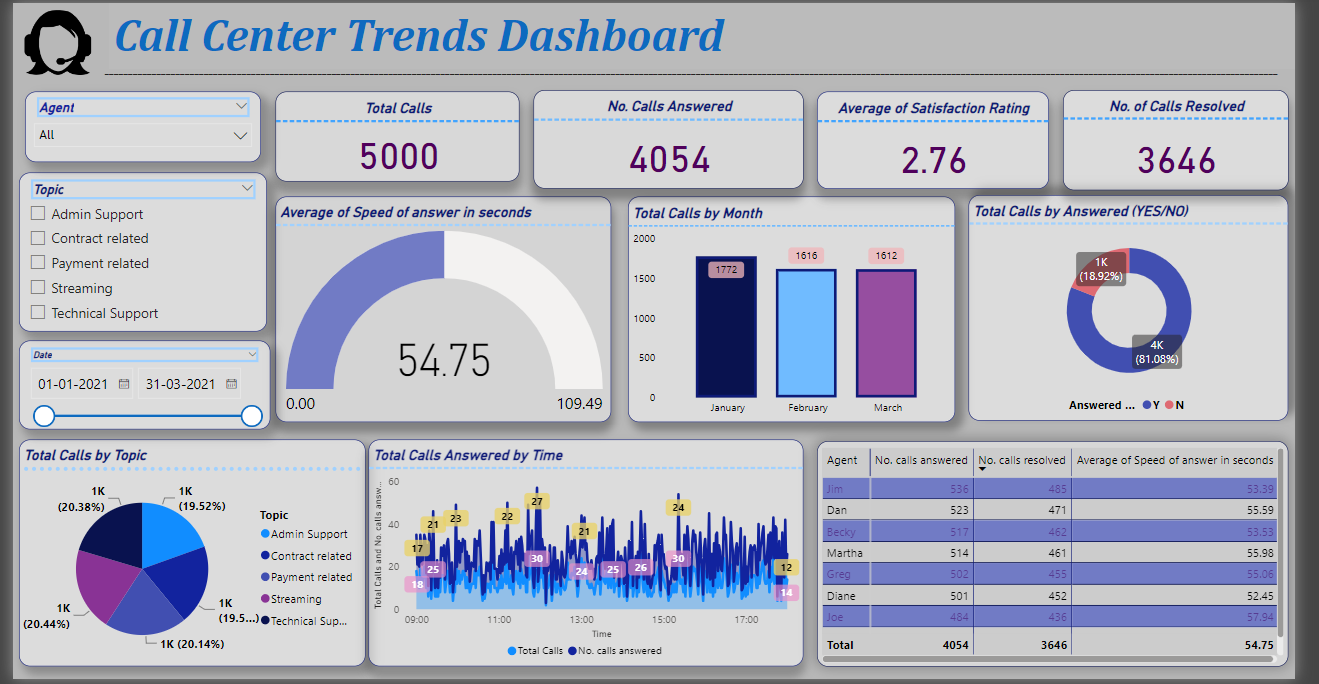

This screenshot's page, from the dashboard's own definition file:
{"tool":"powerbi","page":{"name":"Call center ","canvas":[1500,791],"ordinal":0},"visuals":[{"type":"card","title":"Total Calls","fields":{"Values":["Sheet1.Total Calls"]},"box":[307.5,103.8,285,105],"z":0},{"type":"slicer","fields":{"Values":["Sheet1.Topic"]},"box":[7.5,197.5,290,186.2],"z":1000},{"type":"donutChart","title":"Total Calls by Answered (YES/NO)","fields":{"Category":["Sheet1.Answered (Y/N)"],"Y":["Sheet1.Total Calls"]},"box":[1117.5,225,373.8,263.8],"z":2000},{"type":"gauge","fields":{"Y":["Sheet1.Speed of answer in seconds"]},"box":[307.1,225.7,392.9,264.3],"z":3000},{"type":"slicer","fields":{"Values":["Sheet1.Agent"]},"box":[13.8,103.8,276.2,82.5],"z":4000},{"type":"pieChart","fields":{"Y":["Sheet1.Total Calls"],"Series":["Sheet1.Topic"]},"box":[7.5,511.2,405,265],"z":5000},{"type":"lineStackedColumnComboChart","fields":{"Y":["Sheet1.Total Calls"],"Category":["Sheet1.Date.Variation.Date Hierarchy.Month"]},"box":[720,225.7,382.9,264.3],"z":6000},{"type":"card","title":"No. of Calls Resolved","fields":{"Values":["Sheet1.No. calls resolved"]},"box":[1227.5,101.2,263.8,117.5],"z":7000},{"type":"card","title":"No. Calls Answered","fields":{"Values":["Sheet1.No. calls answered"]},"box":[608.8,101.2,316.2,115],"z":8000},{"type":"pivotTable","fields":{"Rows":["Sheet1.Agent"],"Values":["Sheet1.No. calls answered","Sheet1.No. calls resolved","Sheet1.Speed of answer in seconds"]},"box":[940,512.5,551.2,263.8],"z":9000},{"type":"card","title":"Average of Satisfaction Rating","fields":{"Values":["Sheet1.Satisfaction rating"]},"box":[940,104.3,271.4,114.3],"z":10000},{"type":"slicer","fields":{"Values":["Sheet1.Date"]},"box":[7.5,395,293.8,103.8],"z":11000},{"type":"stackedAreaChart","title":"Total Calls Answered by Time","fields":{"Category":["Sheet1.Time"],"Y":["Sheet1.Total Calls","Sheet1.No. calls answered"]},"box":[416.2,511.2,508.8,265],"z":12000},{"type":"textbox","box":[112.9,0,1387.1,77.1],"z":13000},{"type":"image","box":[3.8,0,97.5,92.5],"z":14000},{"type":"textbox","box":[101.4,61.4,1398.6,42.9],"z":15000}]}

Visuals, with their boxes in screenshot pixels (x1, y1, x2, y2), scaled from the page's 1500x791 canvas onto the 1319x684 screenshot:
"Total Calls" card: box(270, 90, 521, 181)
slicer - Sheet1.Topic: box(7, 171, 262, 332)
"Total Calls by Answered (YES/NO)" donutChart: box(983, 195, 1311, 423)
gauge - Sheet1.Speed of answer in seconds: box(270, 195, 616, 424)
slicer - Sheet1.Agent: box(12, 90, 255, 161)
pieChart - Sheet1.Total Calls x Sheet1.Topic: box(7, 442, 363, 671)
lineStackedColumnComboChart - Sheet1.Total Calls x Sheet1.Date.Variation.Date Hierarchy.Month: box(633, 195, 970, 424)
"No. of Calls Resolved" card: box(1079, 88, 1311, 189)
"No. Calls Answered" card: box(535, 88, 813, 187)
pivotTable - Sheet1.Agent x Sheet1.No. calls answered: box(827, 443, 1311, 671)
"Average of Satisfaction Rating" card: box(827, 90, 1065, 189)
slicer - Sheet1.Date: box(7, 342, 265, 431)
"Total Calls Answered by Time" stackedAreaChart: box(366, 442, 813, 671)
textbox: box(99, 0, 1318, 67)
image: box(3, 0, 89, 80)
textbox: box(89, 53, 1318, 90)
